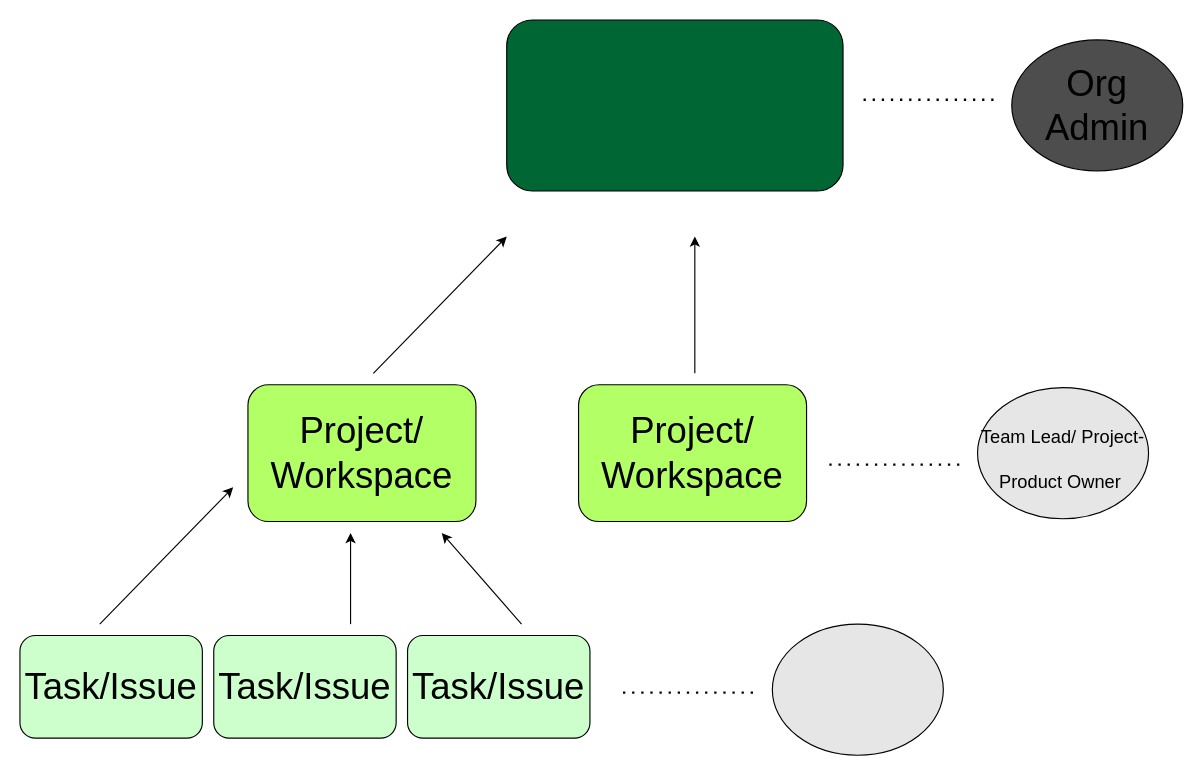
Image size: 1203x775. Some labels were removed from this diagram. The shapes that lost their labels are listed below. From the top down, each one's centre as x and y in pixels, then its label:
At point 674,105: "Organization".
At point 857,689: "Task/Issue assignee".
